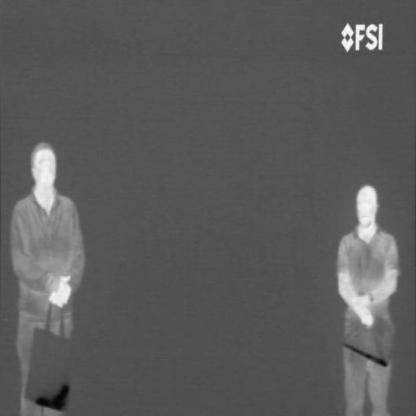weapon: (34, 380, 70, 414)
